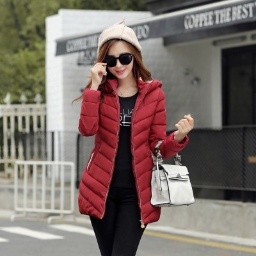face: (86, 30, 157, 87)
